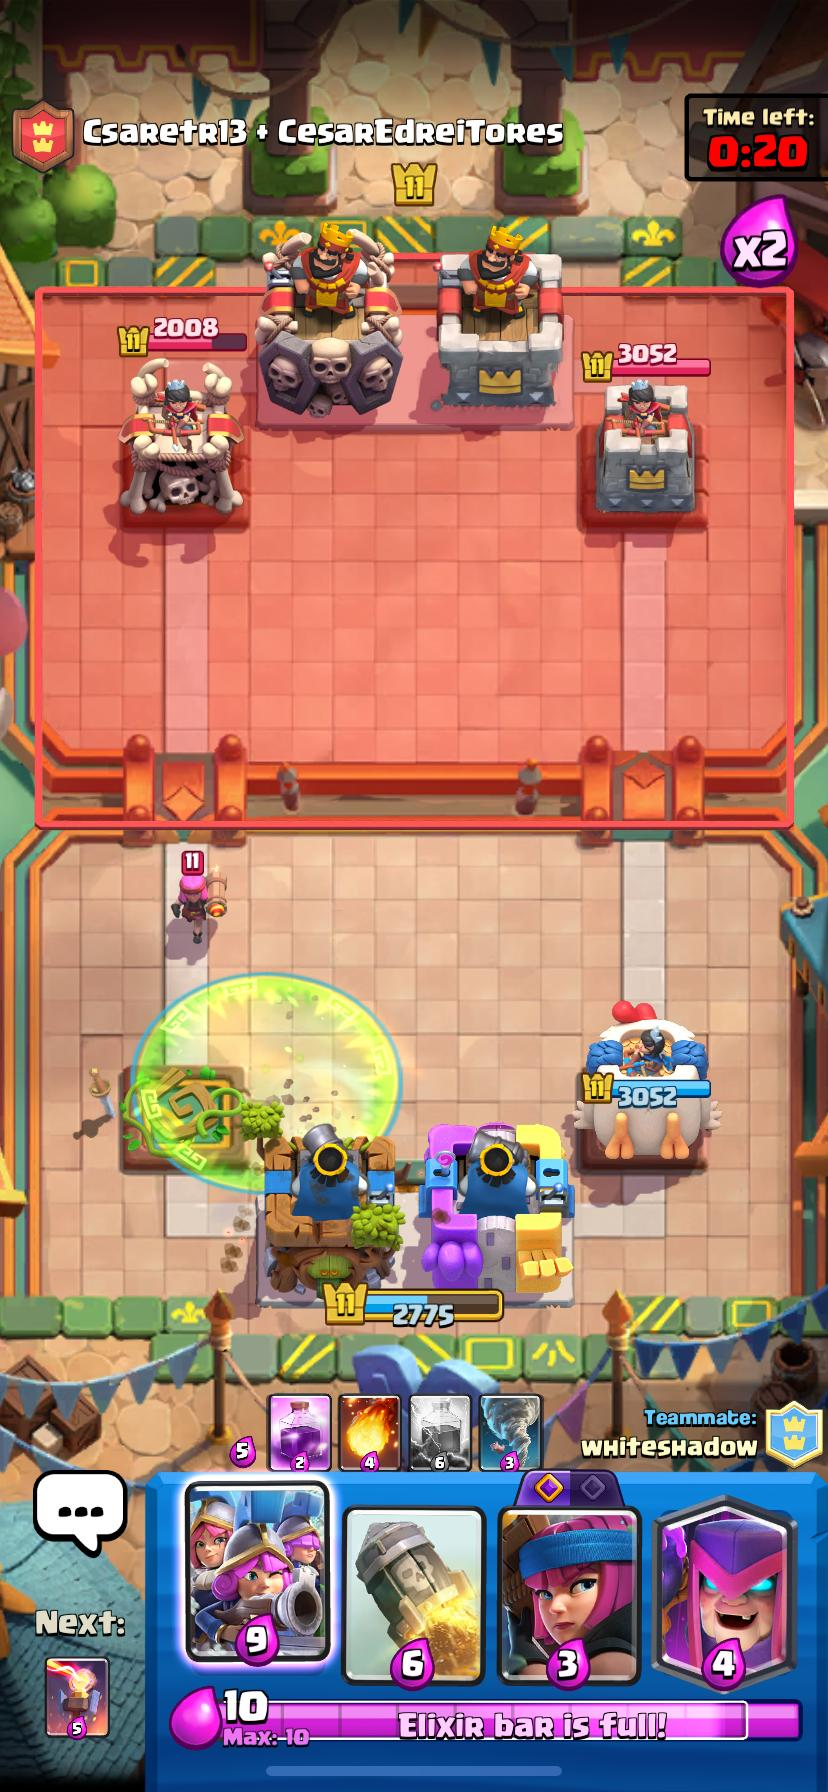EFirecrack: (172, 853, 225, 945)
EKingTower: (255, 224, 403, 417), (433, 225, 563, 409)
EnemyPrincessTower: (119, 359, 242, 514), (595, 378, 695, 517)
OwnKingTower: (419, 1122, 573, 1298), (262, 1123, 403, 1294)
OwnPrincessTower: (582, 1013, 710, 1160)
TowerDown: (121, 1066, 247, 1173)
